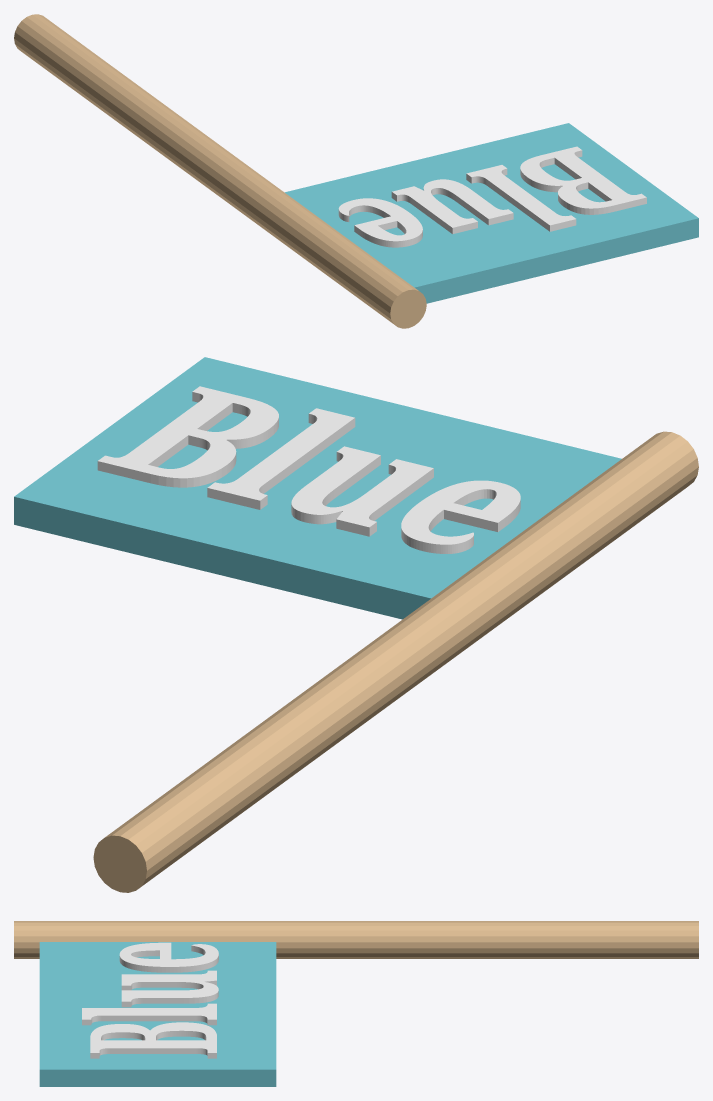
The model's file is tinker_blue.obj.
3 renders of one model, top to bottom at view 1: azimuth 30°, elevation 25°; view 2: azimuth 150°, elevation 25°; view 3: azimuth 270°, elevation 25°, orthographic. The views are drawn at different scales.
Visible parts, largest first — view 1: group_0_7720667, group_0_14860437, group_0_16448250; view 2: group_0_7720667, group_0_14860437, group_0_16448250; view 3: group_0_7720667, group_0_14860437, group_0_16448250.
Part boxes in pixels (x1=…): group_0_7720667: x1=285, y1=123, x2=698, y2=303; group_0_14860437: x1=14, y1=14, x2=426, y2=328; group_0_16448250: x1=338, y1=146, x2=646, y2=247; group_0_7720667: x1=14, y1=357, x2=621, y2=619; group_0_14860437: x1=93, y1=431, x2=698, y2=892; group_0_16448250: x1=97, y1=386, x2=520, y2=553; group_0_7720667: x1=39, y1=942, x2=276, y2=1086; group_0_14860437: x1=14, y1=921, x2=698, y2=958; group_0_16448250: x1=82, y1=942, x2=218, y2=1058.
Bounding box in the file's own units: 53 × 6 × 107.
